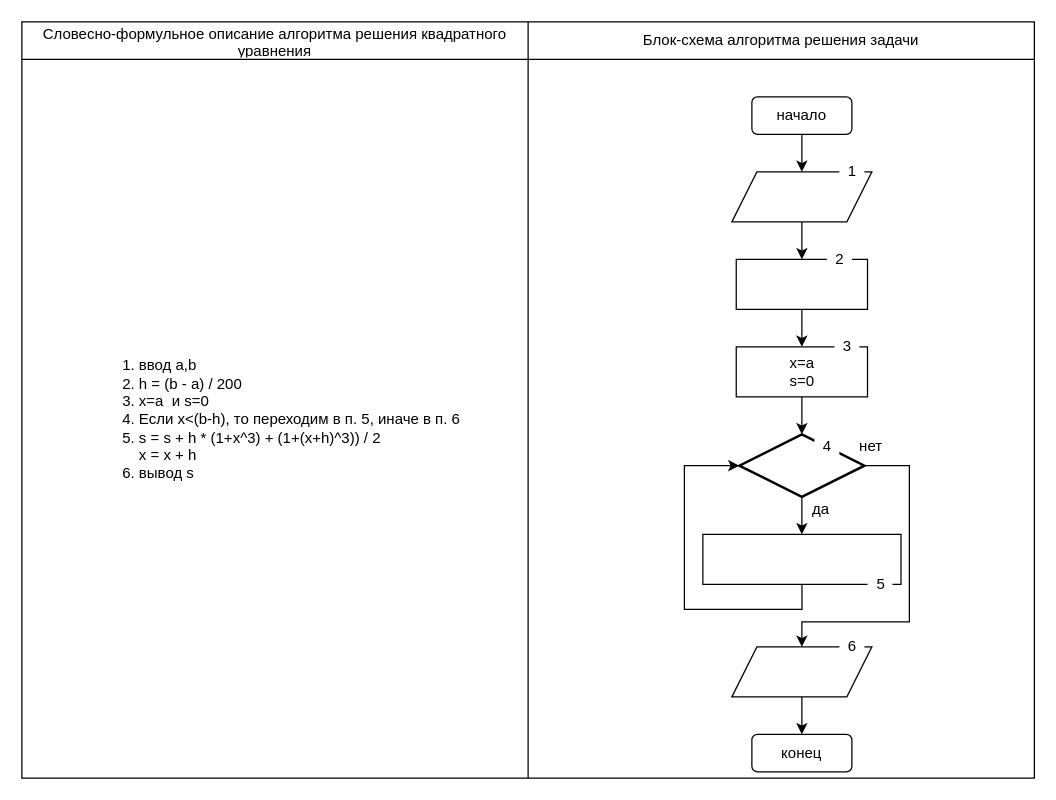
Some shapes in this 1056 by 800 pixel diagram are drawn without their labels. Each missing label, with the box of its shape:
h = (b - a) / 200: (735, 258, 868, 309)
s = s + h * (1+x^3 ) + (1+(x+h)^3 )) / 2 x = x + h: (702, 533, 901, 584)
x < (b - h): (738, 432, 865, 498)
ввод a,b: (731, 171, 872, 222)
вывод s: (731, 646, 872, 697)
